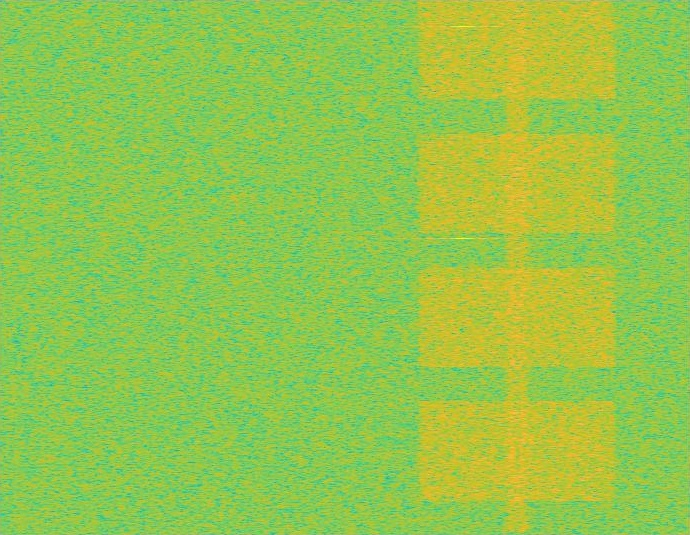5G: (414, 0, 621, 534)
DSSS: (504, 0, 531, 534)
Radar: (456, 0, 470, 534)
